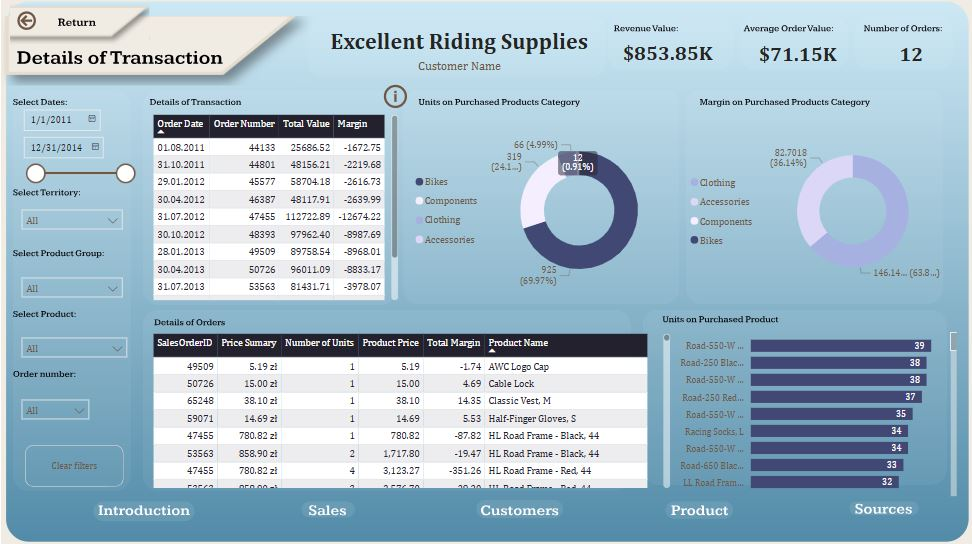

The page's visual inventory and layout, read from the dashboard file:
{"tool":"powerbi","page":{"name":"Customer Detail of Transaction","canvas":[1280,720],"ordinal":5},"visuals":[{"type":"actionButton","box":[1106.9,650.2,124.6,36.2],"z":0},{"type":"actionButton","box":[126.3,655.5,136,37.1],"z":1000},{"type":"actionButton","box":[396.6,655.5,76,37.1],"z":2000},{"type":"actionButton","box":[622.8,655.5,123.7,35.3],"z":3000},{"type":"actionButton","box":[871,646.6,98.9,44.2],"z":4000},{"type":"tableEx","fields":{"Values":["SalesOrderHeader.OrderDate","SalesOrderHeader.SalesOrderID","Sum(SalesOrderHeader.SubTotal)","Sum(SalesOrderDetail.Margin)"]},"box":[194.3,145.8,333,254.4],"z":5000},{"type":"slicer","fields":{"Values":["calendar.Date"]},"box":[16.8,134.3,167.8,114.8],"z":6000},{"type":"slicer","fields":{"Values":["Product.ProductName"]},"box":[16.8,434.7,158.9,40],"z":7000},{"type":"slicer","fields":{"Values":["ProductCategory.CategoryName"]},"box":[16.8,355.7,152.9,45],"z":8000},{"type":"slicer","fields":{"Values":["SalesOrderDetail.SalesOrderID"]},"box":[16.8,515.6,108.9,50],"z":9000},{"type":"card","fields":{"Values":["_Measure.AverageOrder"]},"box":[969.9,43.6,157.2,53.9],"z":10000},{"type":"card","fields":{"Values":["_Measure.AllSalesProductSum"]},"box":[780.9,42.7,194.3,55.7],"z":11000},{"type":"card","fields":{"Values":["_Measure.NumberOfOrders"]},"box":[1148.4,43.6,100.7,53.9],"z":12000},{"type":"actionButton","box":[31,585.5,129.9,55],"z":13000},{"type":"actionButton","box":[499.1,106,40.6,40.6],"z":14000},{"type":"slicer","fields":{"Values":["Territory.CountryRegionCode"]},"box":[16.8,265.8,152.9,45],"z":15000},{"type":"actionButton","box":[16.7,11.1,121.1,33.3],"z":16000},{"type":"clusteredBarChart","fields":{"Category":["Product.ProductName"],"Y":["Sum(SalesOrderDetail.OrderQty)"]},"box":[878.1,424.9,385.1,233.2],"z":17000},{"type":"donutChart","fields":{"Category":["ProductCategory.CategoryName"],"Y":["Sum(SalesOrderDetail.OrderQty)"]},"box":[539.7,154.6,350.7,245.6],"z":18000},{"type":"donutChart","fields":{"Y":["Sum(SalesOrderDetail.Margin)"],"Category":["ProductCategory.CategoryName"]},"box":[901.9,164.3,347.2,226.1],"z":19000},{"type":"tableEx","fields":{"Values":["SalesOrderDetail.SalesOrderID","Sum(SalesOrderDetail.UnitPrice)","Sum(SalesOrderDetail.OrderQty)","Sum(SalesOrderDetail.LineTotal)","Sum(SalesOrderDetail.Margin)","Product.ProductName"]},"box":[194.3,434.6,690.8,212.9],"z":20000},{"type":"card","fields":{"Values":["Min(Customer.CustomerName)"]},"box":[404.6,21.2,398.4,84.8],"z":21000}]}

Visuals, with their boxes in screenshot pixels (x1, y1, x2, y2), scaled from the page's 1280x720 canvas onto the 972x544 screenshot:
actionButton: 841,491,935,519
actionButton: 96,495,199,523
actionButton: 301,495,359,523
actionButton: 473,495,567,522
actionButton: 661,489,737,522
tableEx - SalesOrderHeader.OrderDate x SalesOrderHeader.SalesOrderID: 148,110,400,302
slicer - calendar.Date: 13,101,140,188
slicer - Product.ProductName: 13,328,133,359
slicer - ProductCategory.CategoryName: 13,269,129,303
slicer - SalesOrderDetail.SalesOrderID: 13,390,95,427
card - _Measure.AverageOrder: 737,33,856,74
card - _Measure.AllSalesProductSum: 593,32,741,74
card - _Measure.NumberOfOrders: 872,33,949,74
actionButton: 24,442,122,484
actionButton: 379,80,410,111
slicer - Territory.CountryRegionCode: 13,201,129,235
actionButton: 13,8,105,34
clusteredBarChart - Product.ProductName x Sum(SalesOrderDetail.OrderQty): 667,321,959,497
donutChart - ProductCategory.CategoryName x Sum(SalesOrderDetail.OrderQty): 410,117,676,302
donutChart - Sum(SalesOrderDetail.Margin) x ProductCategory.CategoryName: 685,124,949,295
tableEx - SalesOrderDetail.SalesOrderID x Sum(SalesOrderDetail.UnitPrice): 148,328,672,489
card - Min(Customer.CustomerName): 307,16,610,80
